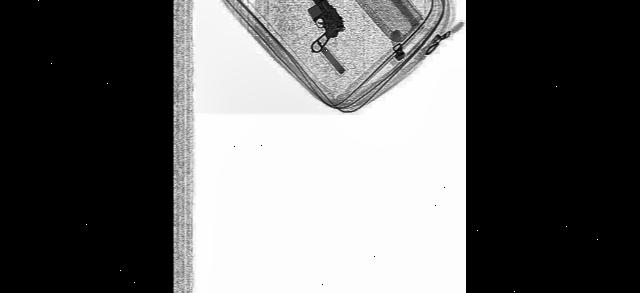Gun: (299, 0, 346, 82), (296, 0, 345, 34)
